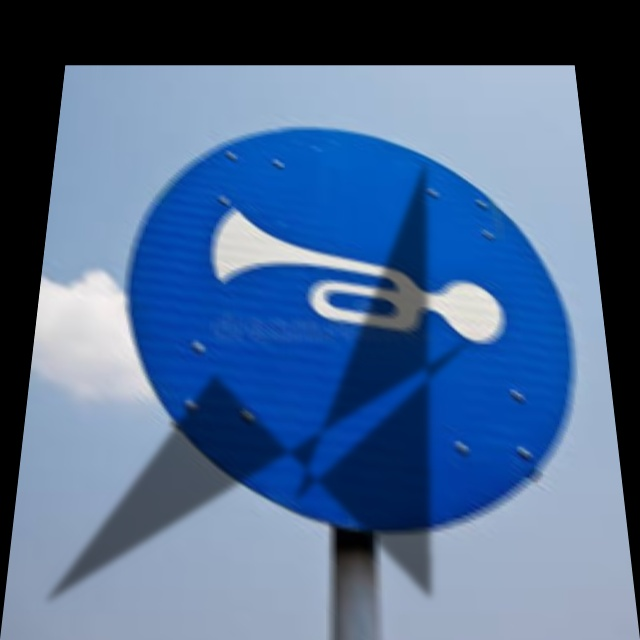Compulsory_Sound_Horn: (117, 126, 582, 519)
